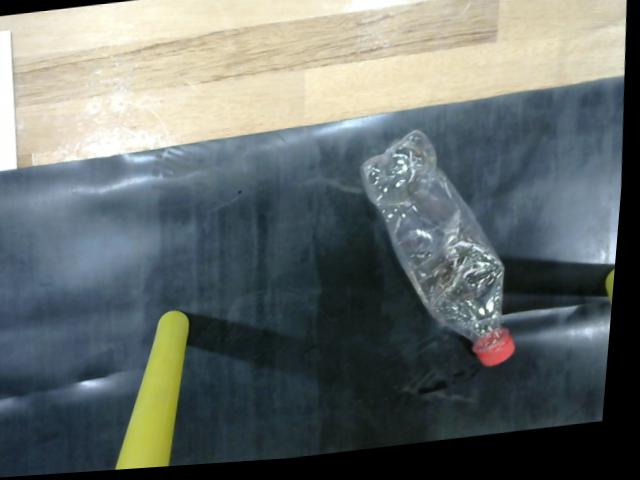bottle: (359, 126, 534, 387)
